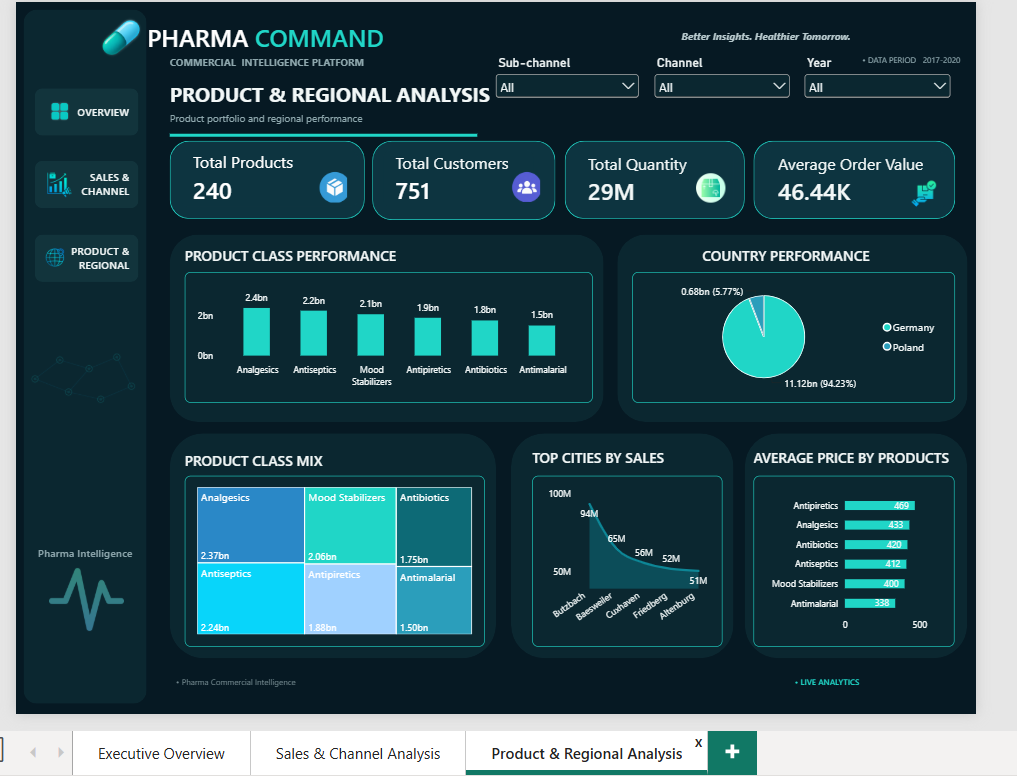

The page's visual inventory and layout, read from the dashboard file:
{"tool":"powerbi","page":{"name":"Product & Regional Analysis","canvas":[1280,950],"ordinal":2},"visuals":[{"type":"shape","box":[10,10,164.3,925.7],"z":0},{"type":"textbox","box":[175,25,380,45],"z":1000},{"type":"textbox","box":[205,70,350,25],"z":2000},{"type":"textbox","box":[850,35,300,30],"z":3000},{"type":"image","box":[91.9,0,96.1,94.7],"z":4000},{"type":"textbox","box":[205.7,105.7,482.9,40],"z":5000},{"type":"textbox","box":[205,145,430,25],"z":6000},{"type":"shape","box":[205.7,185.7,260,104.3],"z":7000},{"type":"cardVisual","fields":{"Data":["pharma-data.Total Products"]},"box":[220,198.6,235.7,74.3],"z":8000},{"type":"shape","box":[475.7,184.3,244.3,105.7],"z":9000},{"type":"cardVisual","fields":{"Data":["pharma-data.Total Customers"]},"box":[490,198.6,200,75.7],"z":10000},{"type":"shape","box":[731.4,185.7,240,104.3],"z":11000},{"type":"cardVisual","fields":{"Data":["pharma-data.Total Quantity"]},"box":[747.1,200,210,75.7],"z":12000},{"type":"shape","box":[983.3,185.6,268.9,104.4],"z":13000},{"type":"cardVisual","fields":{"Data":["pharma-data.Average Order Value"]},"box":[1000,200,240,75.6],"z":14000},{"type":"shape","box":[205.7,310,578.6,250],"z":15000},{"type":"textbox","box":[225.7,324.3,300,30],"z":16000},{"type":"clusteredColumnChart","fields":{"Category":["pharma-data.Product Class"],"Y":["pharma-data.Total Sales"]},"box":[225.7,360,544.3,174.3],"z":17000},{"type":"shape","box":[801.4,310,467.1,250],"z":18000},{"type":"textbox","box":[915.7,324.3,284.3,30],"z":19000},{"type":"pieChart","fields":{"Category":["pharma-data.Country"],"Y":["pharma-data.Total Sales"]},"box":[821.4,360,430,174.3],"z":20000},{"type":"shape","box":[205,575,435,300],"z":21000},{"type":"textbox","box":[225,597.5,300,32.5],"z":22000},{"type":"treemap","fields":{"Group":["pharma-data.Product Class"],"Values":["pharma-data.Total Sales"]},"box":[225,631.7,400,228.3],"z":23000},{"type":"shape","box":[660,575,296.7,300],"z":24000},{"type":"textbox","box":[688.3,595,311.7,36.7],"z":25000},{"type":"areaChart","fields":{"Category":["pharma-data.City"],"Y":["pharma-data.Total Sales"]},"box":[688.3,631.7,253.3,228.3],"z":26000},{"type":"slicer","fields":{"Values":["pharma-data.Year"]},"box":[1047.1,70,204.3,75.7],"z":27000},{"type":"slicer","fields":{"Values":["pharma-data.Channel"]},"box":[847.1,70,190,87.5],"z":28000},{"type":"slicer","fields":{"Values":["pharma-data.Sub-channel"]},"box":[635.7,70,200,75],"z":29000},{"type":"textbox","box":[205,900,500,20],"z":30000},{"type":"textbox","box":[1030,900,180,20],"z":31000},{"type":"shape","box":[205,171.7,410,12],"z":32000},{"type":"textbox","box":[1120,70,160,30],"z":33000},{"type":"shape","box":[971.7,575,296.7,300],"z":34000},{"type":"textbox","box":[982.9,595.7,285.7,35.7],"z":35000},{"type":"clusteredBarChart","fields":{"Category":["pharma-data.Product Class"],"Y":["pharma-data.Average Price"]},"box":[983.3,631.7,268.3,228.3],"z":36000},{"type":"actionButton","box":[25,115,138.3,63.3],"z":37000},{"type":"image","box":[38.3,103.3,40,85],"z":38000},{"type":"actionButton","box":[25,211.7,138.3,63.3],"z":39000},{"type":"actionButton","box":[25,310,138.3,63.3],"z":40000},{"type":"image","box":[42,226,33,34],"z":41000},{"type":"image","box":[25,328,53,25],"z":42000},{"type":"image","box":[396.7,225.6,47.5,42.5],"z":43000},{"type":"image","box":[652.2,225.6,53.8,41.2],"z":44000},{"type":"image","box":[867.8,227.8,115.6,38.9],"z":45000},{"type":"image","box":[1173.3,236.7,74.4,37.8],"z":46000},{"type":"image","box":[0,391.7,175,221.7],"z":47000},{"type":"textbox","box":[25,725,135,40],"z":49000},{"type":"image","box":[0,746.7,188.3,100],"z":50000}]}

Visuals, with their boxes on the page's 1280x950 design canvas (x1, y1, x2, y2). These are canvas units, not pixel positions in the 1017x776 screenshot, which may show the page scaled, cropped or inside an application window:
shape: select_region(10, 10, 174, 936)
textbox: select_region(175, 25, 555, 70)
textbox: select_region(205, 70, 555, 95)
textbox: select_region(850, 35, 1150, 65)
image: select_region(92, 0, 188, 95)
textbox: select_region(206, 106, 689, 146)
textbox: select_region(205, 145, 635, 170)
shape: select_region(206, 186, 466, 290)
cardVisual - pharma-data.Total Products: select_region(220, 199, 456, 273)
shape: select_region(476, 184, 720, 290)
cardVisual - pharma-data.Total Customers: select_region(490, 199, 690, 274)
shape: select_region(731, 186, 971, 290)
cardVisual - pharma-data.Total Quantity: select_region(747, 200, 957, 276)
shape: select_region(983, 186, 1252, 290)
cardVisual - pharma-data.Average Order Value: select_region(1000, 200, 1240, 276)
shape: select_region(206, 310, 784, 560)
textbox: select_region(226, 324, 526, 354)
clusteredColumnChart - pharma-data.Product Class x pharma-data.Total Sales: select_region(226, 360, 770, 534)
shape: select_region(801, 310, 1268, 560)
textbox: select_region(916, 324, 1200, 354)
pieChart - pharma-data.Country x pharma-data.Total Sales: select_region(821, 360, 1251, 534)
shape: select_region(205, 575, 640, 875)
textbox: select_region(225, 598, 525, 630)
treemap - pharma-data.Product Class x pharma-data.Total Sales: select_region(225, 632, 625, 860)
shape: select_region(660, 575, 957, 875)
textbox: select_region(688, 595, 1000, 632)
areaChart - pharma-data.City x pharma-data.Total Sales: select_region(688, 632, 942, 860)
slicer - pharma-data.Year: select_region(1047, 70, 1251, 146)
slicer - pharma-data.Channel: select_region(847, 70, 1037, 158)
slicer - pharma-data.Sub-channel: select_region(636, 70, 836, 145)
textbox: select_region(205, 900, 705, 920)
textbox: select_region(1030, 900, 1210, 920)
shape: select_region(205, 172, 615, 184)
textbox: select_region(1120, 70, 1280, 100)
shape: select_region(972, 575, 1268, 875)
textbox: select_region(983, 596, 1269, 631)
clusteredBarChart - pharma-data.Product Class x pharma-data.Average Price: select_region(983, 632, 1252, 860)
actionButton: select_region(25, 115, 163, 178)
image: select_region(38, 103, 78, 188)
actionButton: select_region(25, 212, 163, 275)
actionButton: select_region(25, 310, 163, 373)
image: select_region(42, 226, 75, 260)
image: select_region(25, 328, 78, 353)
image: select_region(397, 226, 444, 268)
image: select_region(652, 226, 706, 267)
image: select_region(868, 228, 983, 267)
image: select_region(1173, 237, 1248, 274)
image: select_region(0, 392, 175, 613)
textbox: select_region(25, 725, 160, 765)
image: select_region(0, 747, 188, 847)
